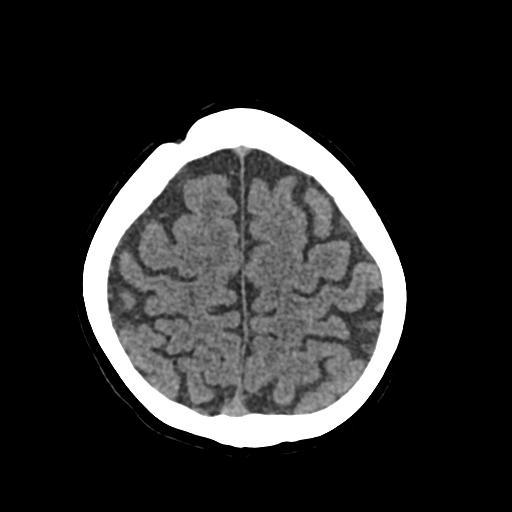Normal_Brain: (96, 106, 402, 484)
